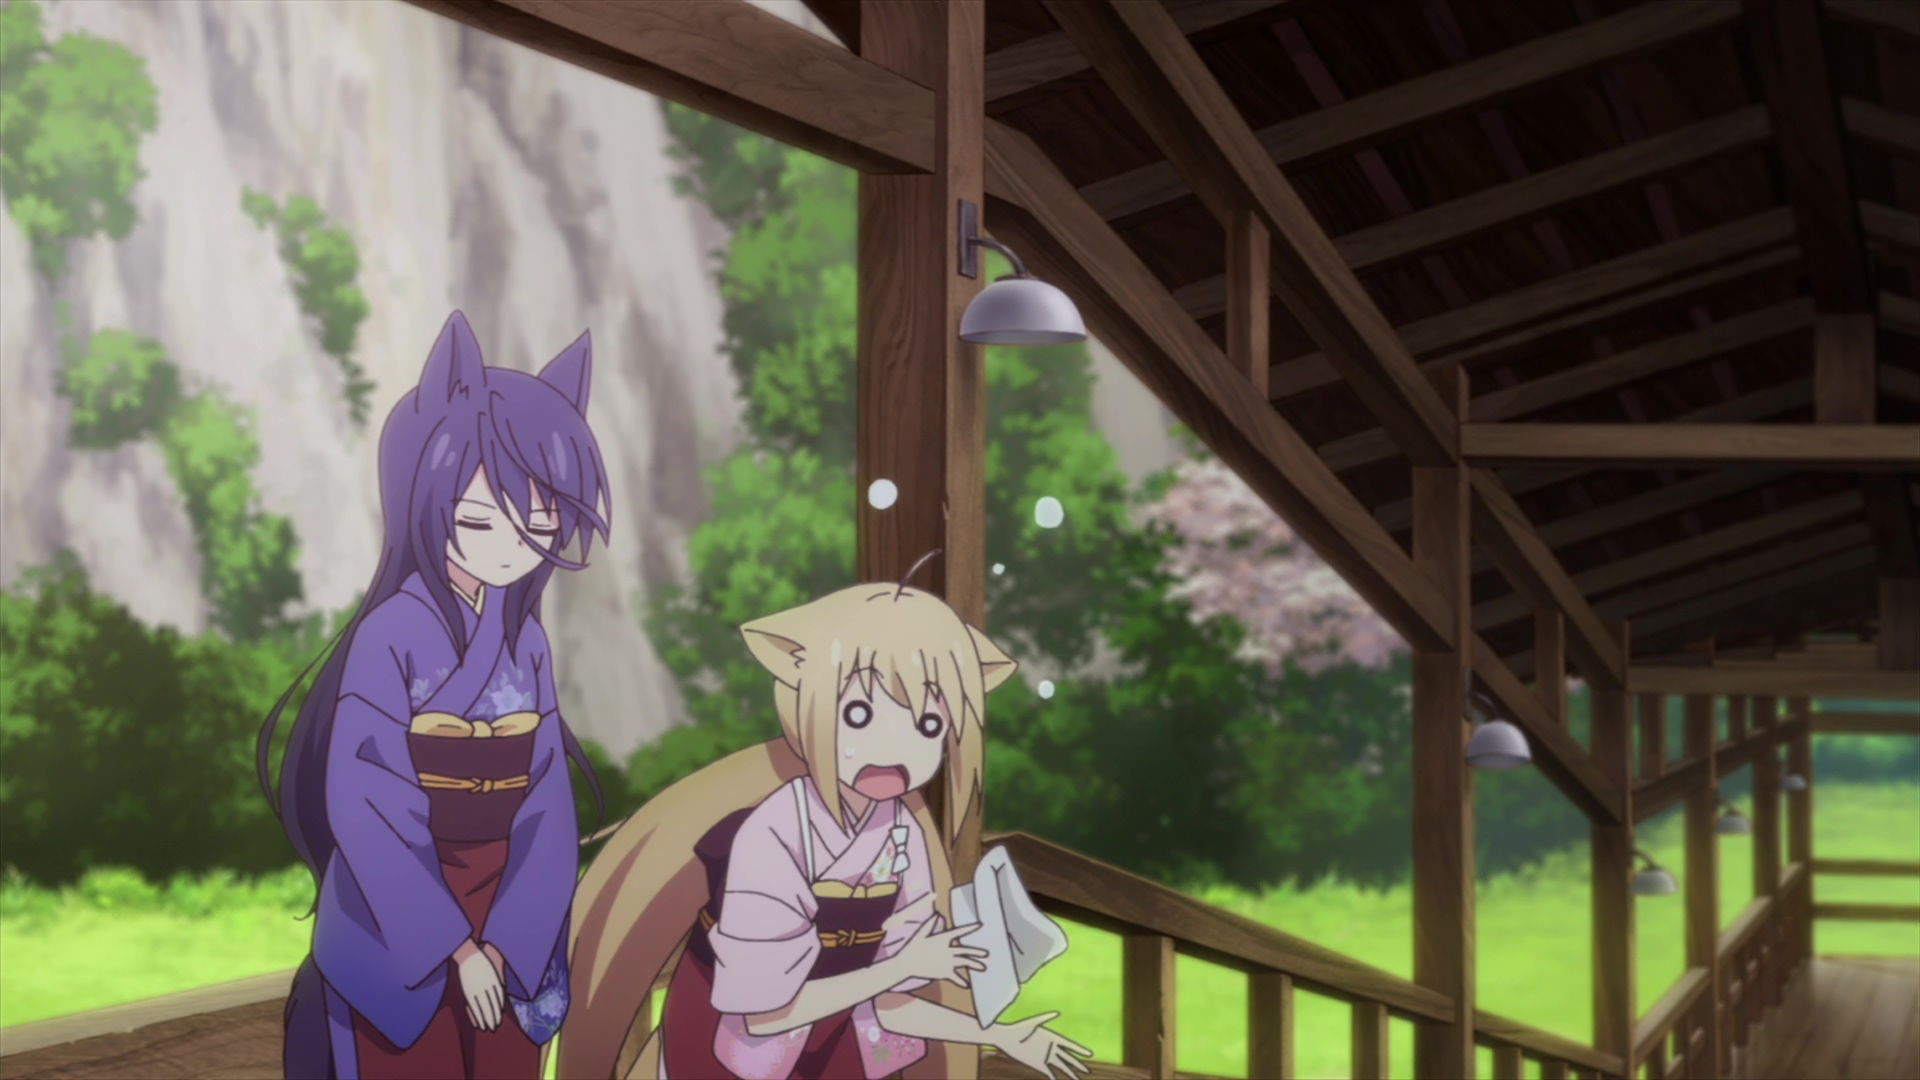柚: (556, 546, 1093, 1080)
皋: (255, 309, 611, 1080)
